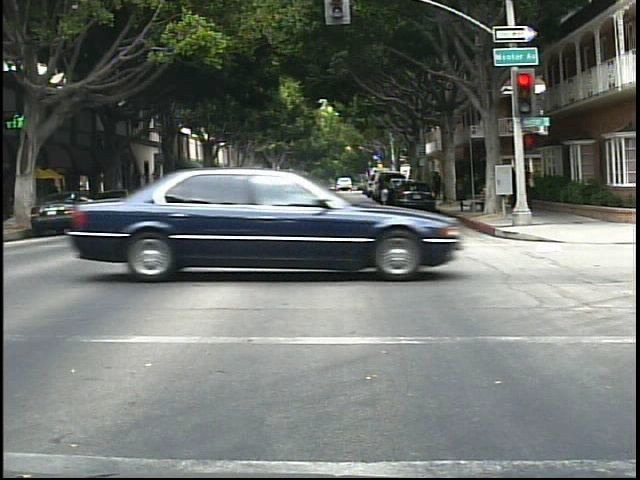person: (148, 172, 188, 242), (377, 172, 398, 210), (433, 169, 445, 199)
